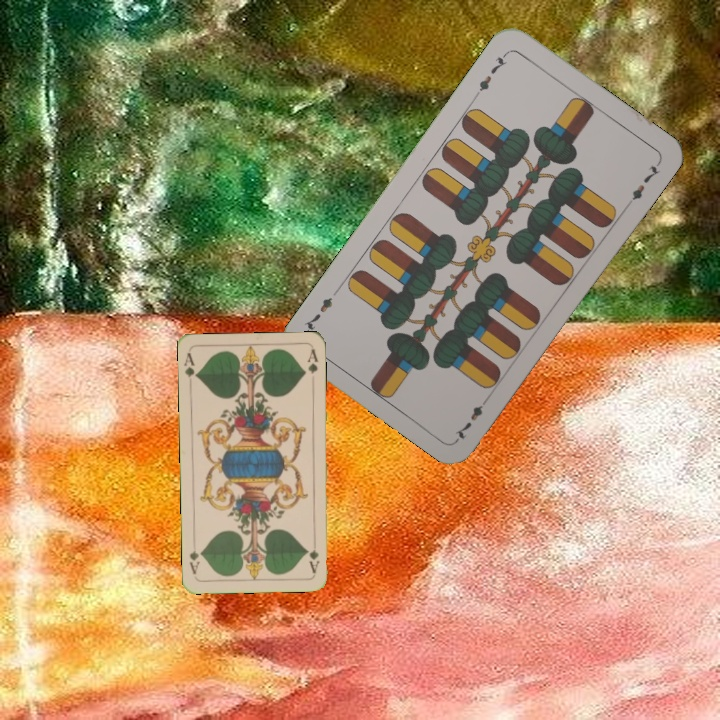E7: (452, 391, 491, 443), (471, 48, 510, 99)
GA: (181, 349, 201, 389), (305, 535, 322, 575)
